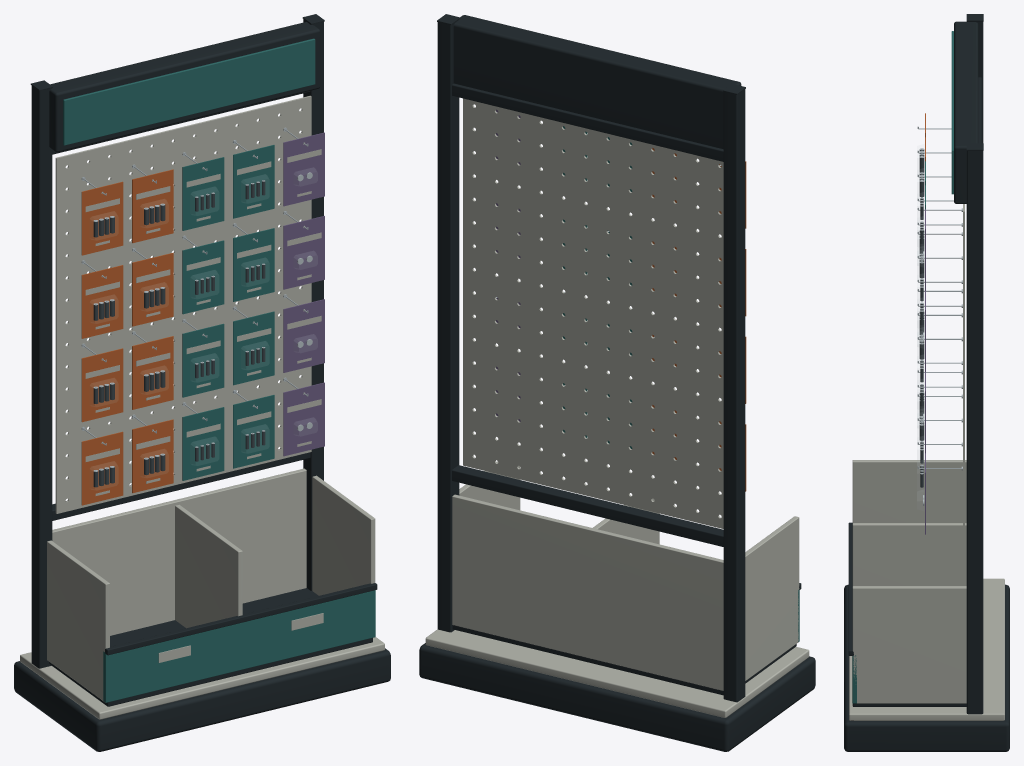
The model's file is battery-display-rack.glb.
The picture shows the model from 3 angles, left to right: view 1: azimuth 30°, elevation 25°; view 2: azimuth 150°, elevation 25°; view 3: azimuth 270°, elevation 25°; orthographic projection. The views are drawn at different scales.
Parts seen in each view (by area): view 1: BATCH_Mattefinish, BATCH_Satinmetal; view 2: BATCH_Mattefinish; view 3: BATCH_Mattefinish, BATCH_Satinmetal, BATCH_Clearblister.
Part boxes in pixels (box(x1,y1,x2,y2)): BATCH_Mattefinish: box(14, 14, 390, 751); BATCH_Satinmetal: box(81, 127, 312, 487); BATCH_Mattefinish: box(419, 14, 815, 751); BATCH_Mattefinish: box(844, 14, 1009, 751); BATCH_Satinmetal: box(917, 126, 962, 505); BATCH_Clearblister: box(917, 168, 924, 492).
Size of the model in its own units: 1 by 2 by 0.5.
